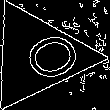O_SW: (1, 25, 75, 87)
